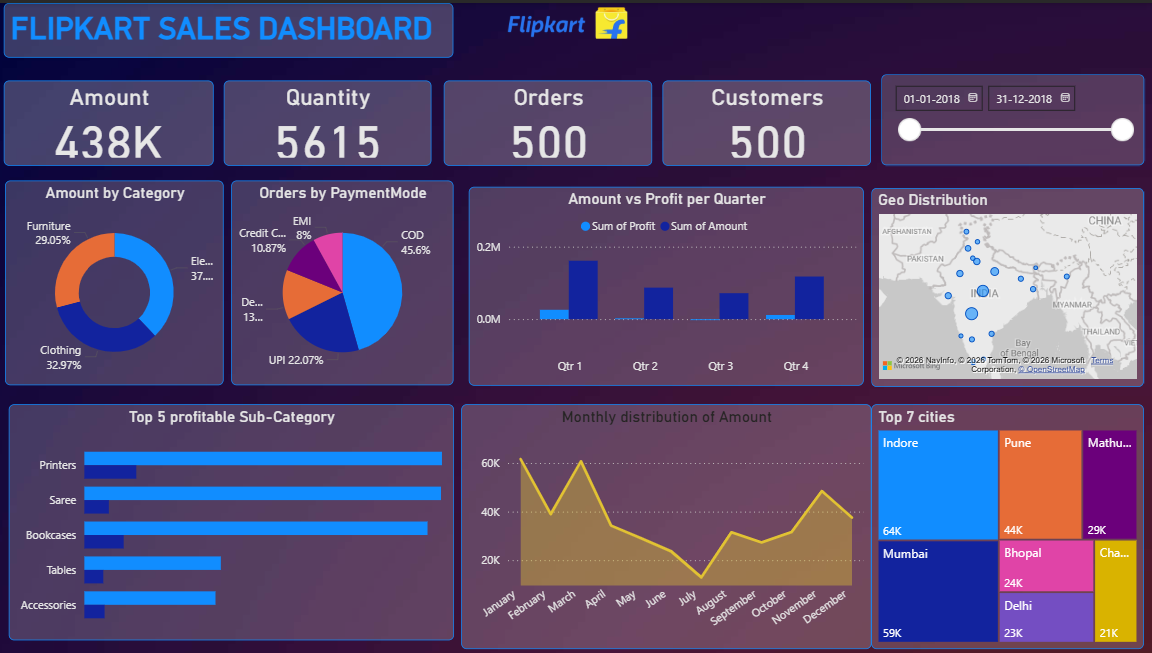

The page's visual inventory and layout, read from the dashboard file:
{"tool":"powerbi","page":{"name":"Page 1","canvas":[1280,720],"ordinal":0},"visuals":[{"type":"textbox","box":[9.6,0,494,60.4],"z":0},{"type":"image","box":[555.7,0,145.5,43.9],"z":1000},{"type":"donutChart","title":"Amount by Category","fields":{"Category":["Details.Category"],"Y":["Sum(Details.Amount)"]},"box":[11,194.9,240.1,225],"z":2000},{"type":"pieChart","title":"Orders by PaymentMode","fields":{"Category":["Details.PaymentMode"],"Y":["CountNonNull(Details.Order ID)"]},"box":[259.3,194.9,244.3,225],"z":3000},{"type":"clusteredBarChart","title":"Top 5 profitable Sub-Category","fields":{"Category":["Details.Sub-Category"],"Y":["Sum(Details.Amount)","Sum(Details.Profit)"]},"box":[15.1,440.5,488.5,259.3],"z":4000},{"type":"card","title":"Orders","fields":{"Values":["Count(Orders.Order ID)"]},"box":[492.6,85.1,229.2,93.3],"z":5000},{"type":"card","title":"Quantity","fields":{"Values":["Sum(Details.Quantity)"]},"box":[251.1,85.1,227.8,93.3],"z":6000},{"type":"card","title":"Customers","fields":{"Values":["CountNonNull(Orders.CustomerName)"]},"box":[732.8,85.1,229.2,93.3],"z":7000},{"type":"card","title":"Amount","fields":{"Values":["Sum(Details.Amount)"]},"box":[9.6,85.1,230.5,93.3],"z":8000},{"type":"stackedAreaChart","title":"Monthly distribution of Amount","fields":{"Category":["Orders.Order Date.Variation.Date Hierarchy.Month"],"Y":["Sum(Details.Amount)"]},"box":[511.8,440.5,450.1,269],"z":9000},{"type":"clusteredColumnChart","title":"Amount vs Profit per Quarter","fields":{"Category":["Orders.Order Date.Variation.Date Hierarchy.Quarter"],"Y":["Sum(Details.Profit)","Sum(Details.Amount)"]},"box":[520.1,201.7,433.6,218.2],"z":10000},{"type":"map","title":"Geo Distribution","fields":{"Category":["Orders.State"],"Size":["Sum(Details.Amount)"]},"box":[961.9,203.1,299.1,218.2],"z":11000},{"type":"treemap","title":"Top 7 cities","fields":{"Group":["Orders.City"],"Values":["Sum(Details.Amount)"]},"box":[961.9,440.5,299.1,269],"z":12000},{"type":"slicer","fields":{"Values":["Orders.Order Date"]},"box":[972.5,78.8,288.8,100],"z":13000}]}

Visuals, with their boxes in screenshot pixels (x1, y1, x2, y2), scaled from the page's 1280x720 canvas onto the 1152x653 screenshot:
textbox: (9,0,453,55)
image: (500,0,631,40)
"Amount by Category" donutChart: (10,177,226,381)
"Orders by PaymentMode" pieChart: (233,177,453,381)
"Top 5 profitable Sub-Category" clusteredBarChart: (14,400,453,635)
"Orders" card: (443,77,650,162)
"Quantity" card: (226,77,431,162)
"Customers" card: (660,77,866,162)
"Amount" card: (9,77,216,162)
"Monthly distribution of Amount" stackedAreaChart: (461,400,866,643)
"Amount vs Profit per Quarter" clusteredColumnChart: (468,183,858,381)
"Geo Distribution" map: (866,184,1135,382)
"Top 7 cities" treemap: (866,400,1135,643)
slicer - Orders.Order Date: (875,71,1135,162)
